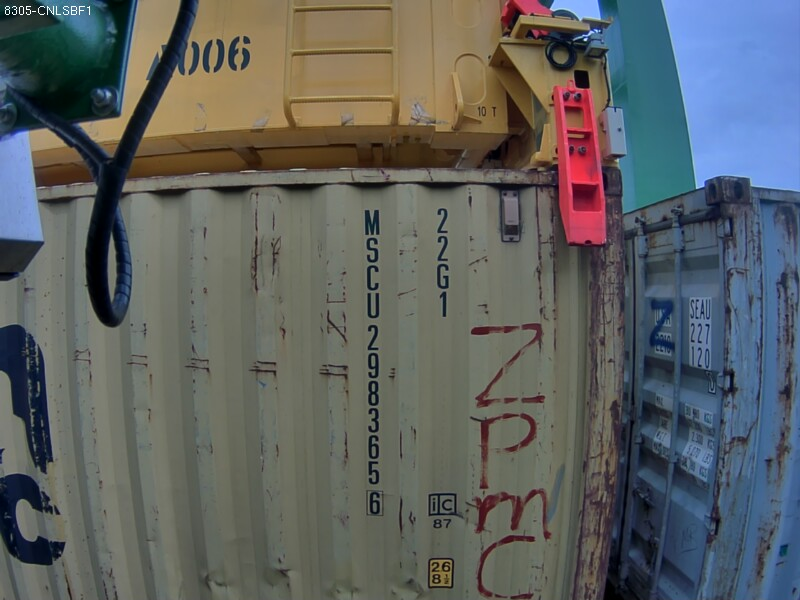container_no_door: (162, 150, 554, 596)
